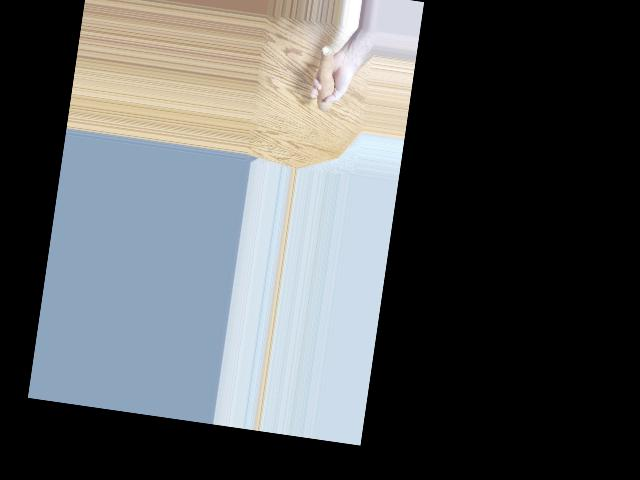sweet_potato: (310, 42, 336, 115)
